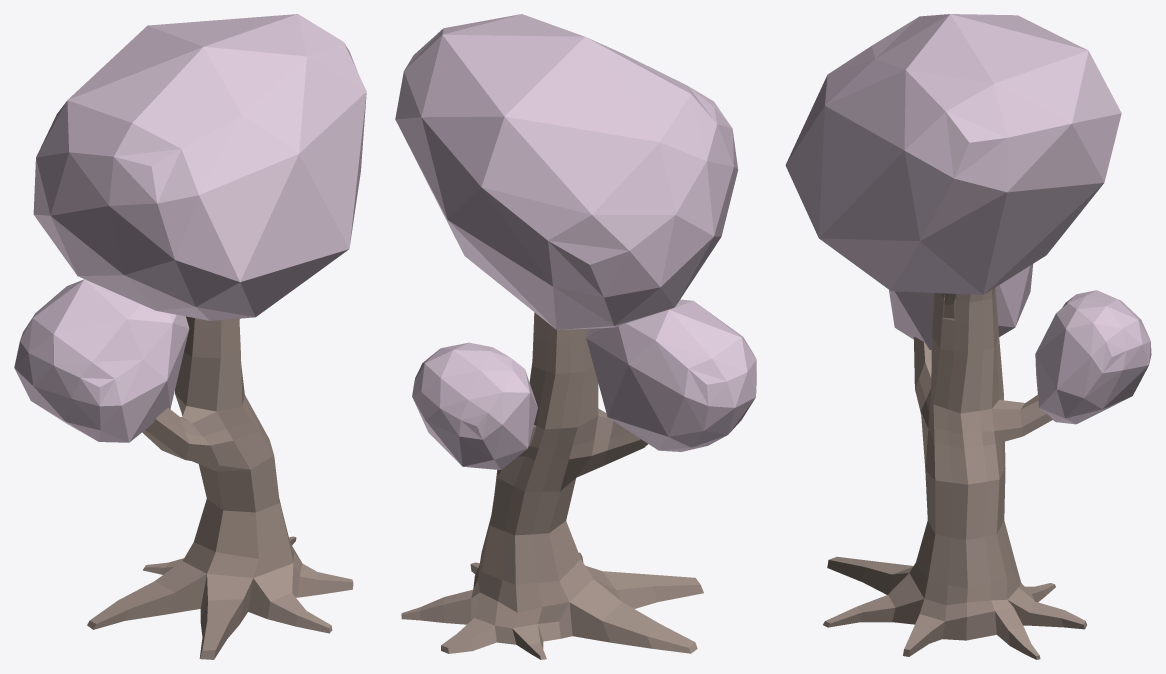
The model's file is Wishing_Tree1.fbx.
3 renders of one model, left to right at view 1: azimuth 30°, elevation 25°; view 2: azimuth 150°, elevation 25°; view 3: azimuth 270°, elevation 25°, orthographic. The views are drawn at different scales.
Parts seen in each view (by area): view 1: Wishing; view 2: Wishing; view 3: Wishing.
Part boxes in pixels (x1,y1,x2,y2): Wishing: (14, 14, 366, 659); Wishing: (395, 14, 756, 659); Wishing: (785, 14, 1151, 659).
Size of the model in its own units: 485 by 788 by 452.
